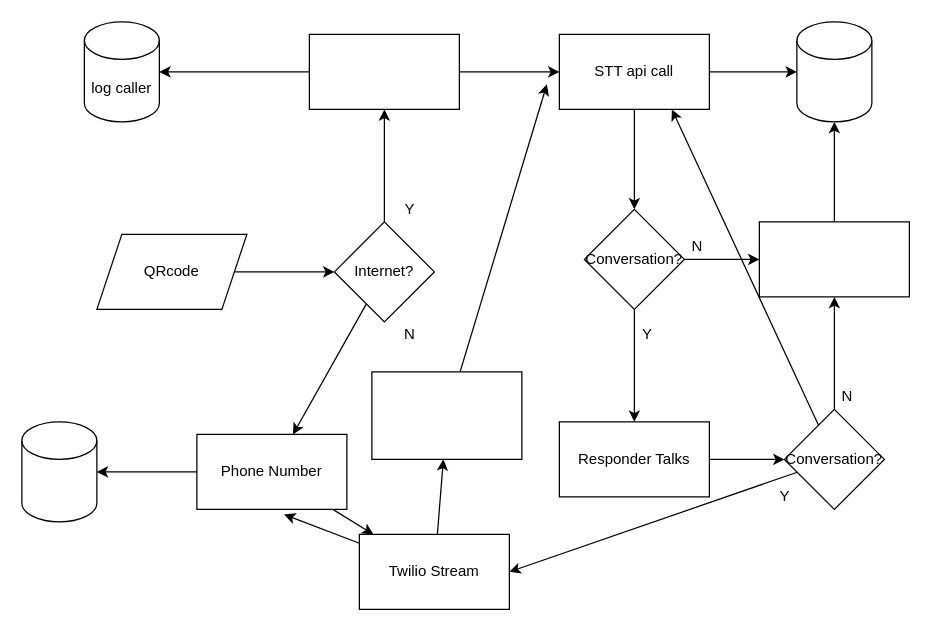
The diagram is 931 pixels wide and 631 high, and some of its shapes have lost their labels. Each missing label, with the centre of its shape:
Direct RTC websock connection to bot: point (383, 71)
End call: point (833, 259)
log number: point (59, 471)
log text: point (834, 71)
Websocket connection to bot: point (446, 415)
